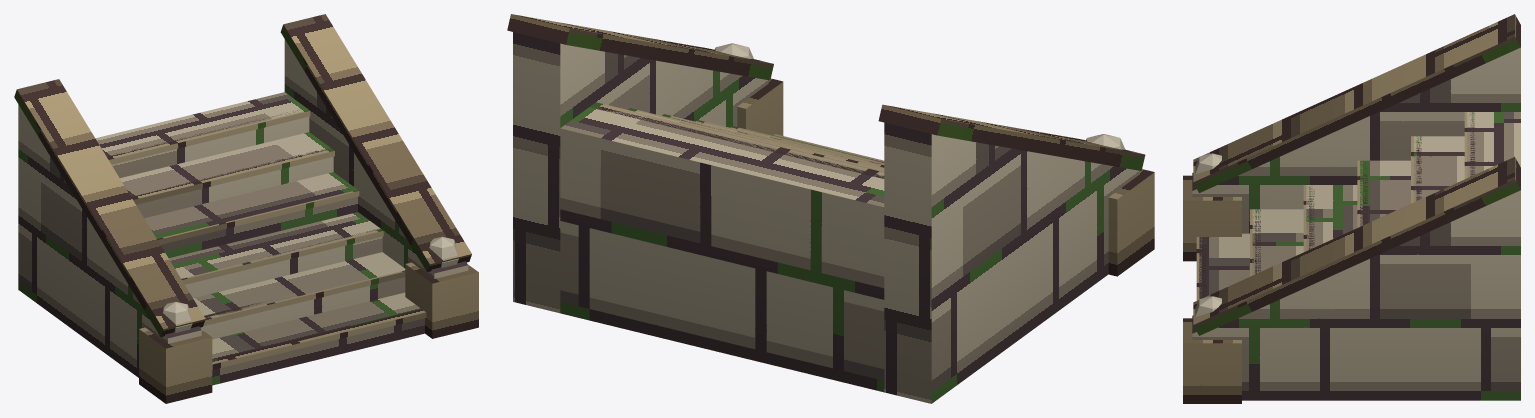
Rendered from scene_stair_f9.glb.
3 renders of one model, left to right at view 1: azimuth 30°, elevation 25°; view 2: azimuth 150°, elevation 25°; view 3: azimuth 270°, elevation 25°, orthographic. The views are drawn at different scales.
Parts seen in each view (by area): view 1: scene_stair_f9; view 2: scene_stair_f9; view 3: scene_stair_f9.
Part boxes in pixels (<box>): scene_stair_f9: <box>14,14,478,403</box>; scene_stair_f9: <box>507,14,1154,403</box>; scene_stair_f9: <box>1183,14,1520,403</box>.
Size of the model in its own units: 2.96 by 1.84 by 2.52.
2 materials, 1 textured.
